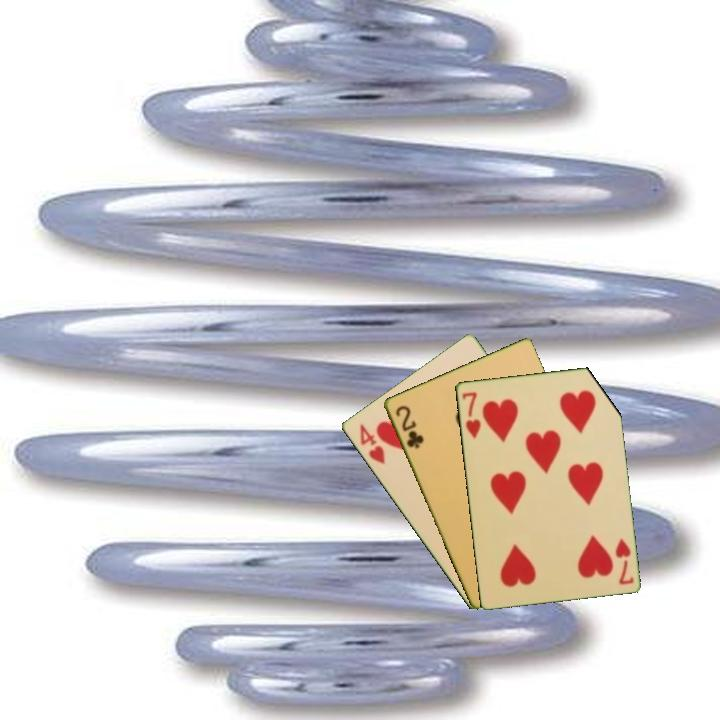2c: (392, 402, 426, 452)
4h: (355, 420, 388, 467)
7h: (458, 388, 483, 441), (611, 534, 636, 587)
